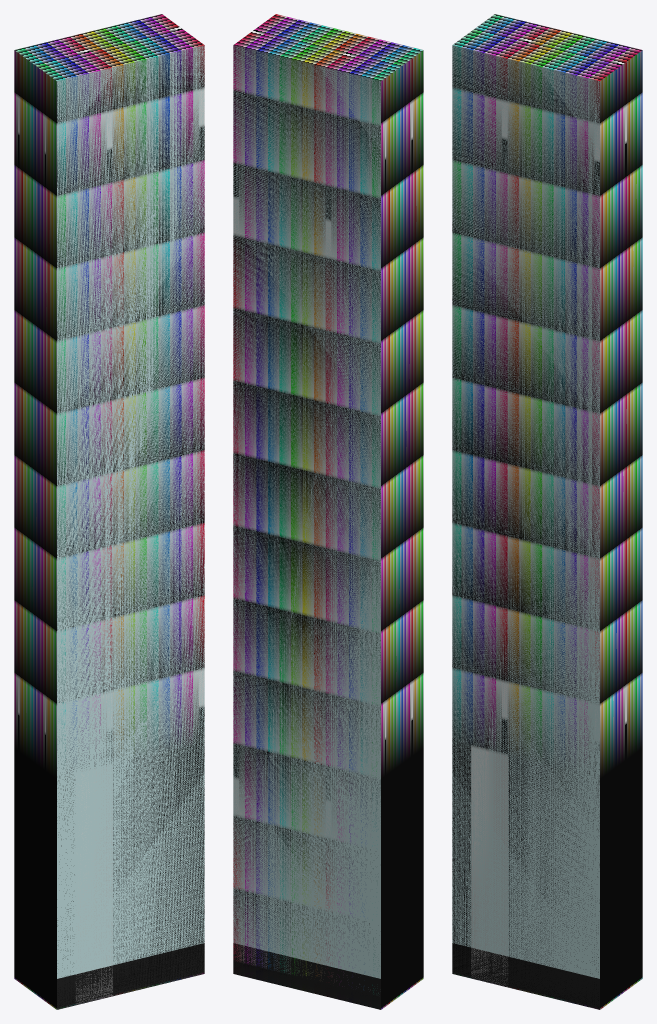
The model's file is interiorWall_line_half.fbx.
3 views of the same model, side by side, from view 1: azimuth 30°, elevation 25°; view 2: azimuth 150°, elevation 25°; view 3: azimuth 330°, elevation 25° (orthographic).
Parts seen in each view (by area): view 1: trigger, interiorWall_line_half; view 2: trigger, interiorWall_line_half; view 3: trigger, interiorWall_line_half.
Boxes of the visible parts, box(x1,y1,x2,y2) form: trigger: box(14, 14, 204, 1009); interiorWall_line_half: box(57, 45, 204, 1009); trigger: box(233, 14, 423, 1009); interiorWall_line_half: box(233, 45, 380, 1009); trigger: box(452, 14, 642, 1009); interiorWall_line_half: box(452, 45, 599, 1009).
Size of what is drawn, in the model's own units: 50 by 300 by 25.
